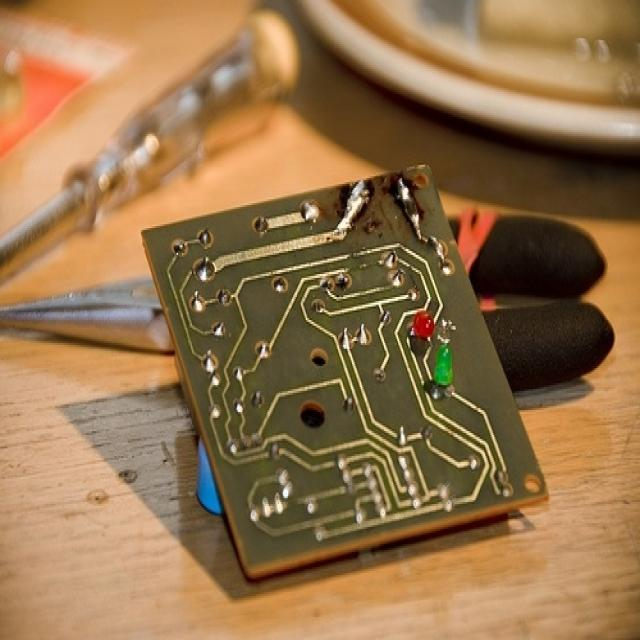E-waste: (146, 178, 556, 566)
Metal: (0, 119, 104, 338)
